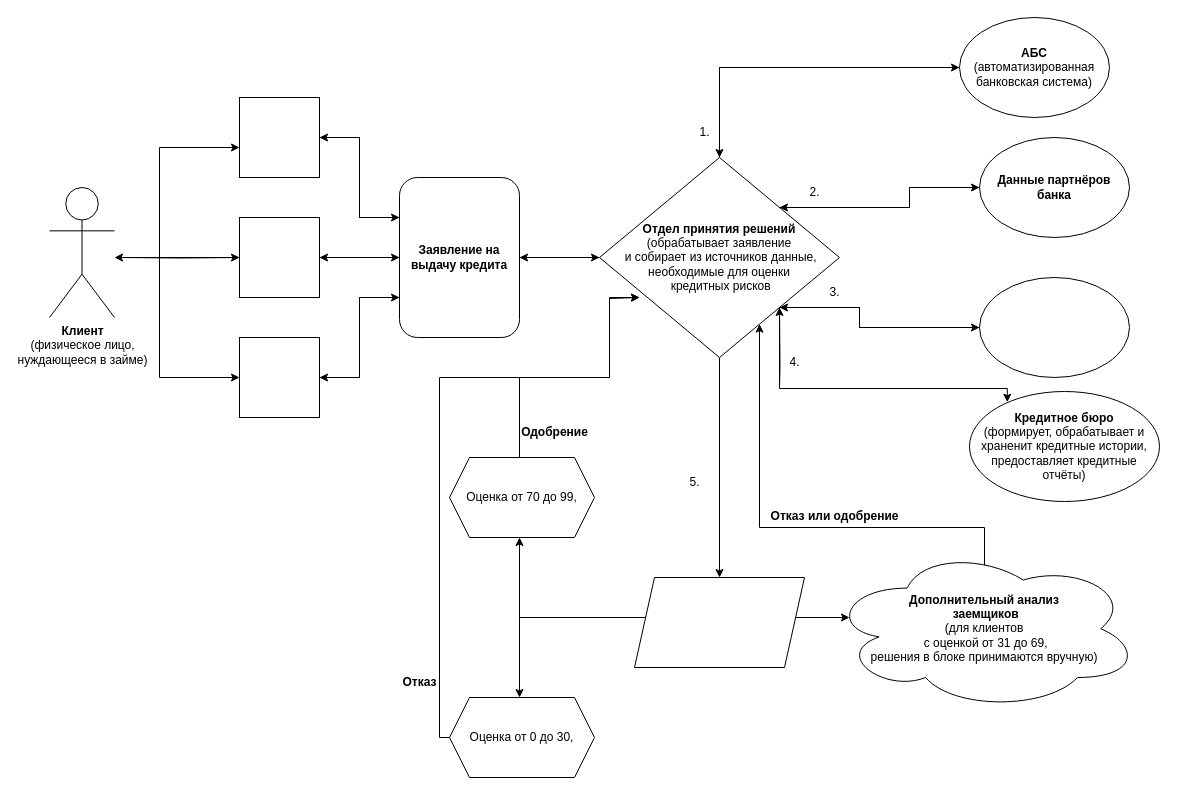
The diagram is 1177 pixels wide and 795 high, and some of its shapes have lost their labels. The centre of each missing label's shape, as x and y in pixels:
Web-сайт банка: the point at 279,377
Аналитический отдел (машинный интеллект): the point at 719,622
Данные из открытых источников: the point at 1054,327
Мобильное приложение банка: the point at 279,137
Отделение банка: the point at 279,257
